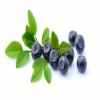Blueberry leaf: (27, 9, 38, 37), (15, 51, 30, 69), (43, 65, 53, 87), (30, 68, 43, 84), (59, 39, 72, 55), (51, 30, 58, 50)
